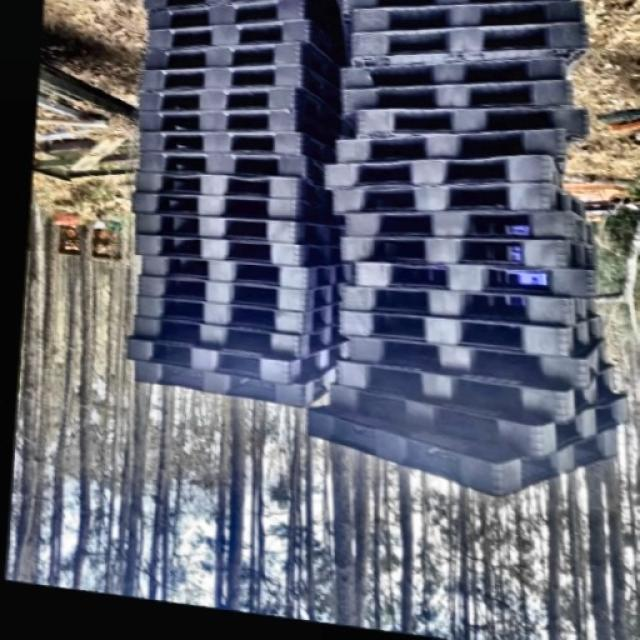non-igps: (300, 398, 624, 507), (324, 378, 635, 468), (326, 349, 623, 431), (341, 330, 614, 394), (332, 304, 612, 366), (346, 14, 598, 73), (122, 328, 356, 390), (328, 278, 601, 330), (347, 256, 607, 308), (326, 178, 590, 228), (128, 356, 345, 414), (334, 99, 596, 147), (335, 72, 580, 121), (337, 230, 602, 274), (126, 311, 354, 362), (317, 148, 569, 194), (130, 289, 349, 340), (335, 208, 599, 250), (136, 249, 362, 297), (132, 270, 348, 318), (136, 145, 339, 196), (334, 51, 573, 93), (135, 125, 343, 173), (330, 123, 573, 164), (344, 0, 591, 40), (127, 163, 341, 208), (132, 228, 344, 273), (132, 208, 348, 252), (127, 188, 353, 230), (140, 36, 306, 78), (142, 16, 313, 56), (133, 60, 307, 96), (134, 104, 300, 139), (134, 81, 300, 115), (142, 0, 307, 32), (332, 0, 544, 17), (140, 0, 222, 17)
